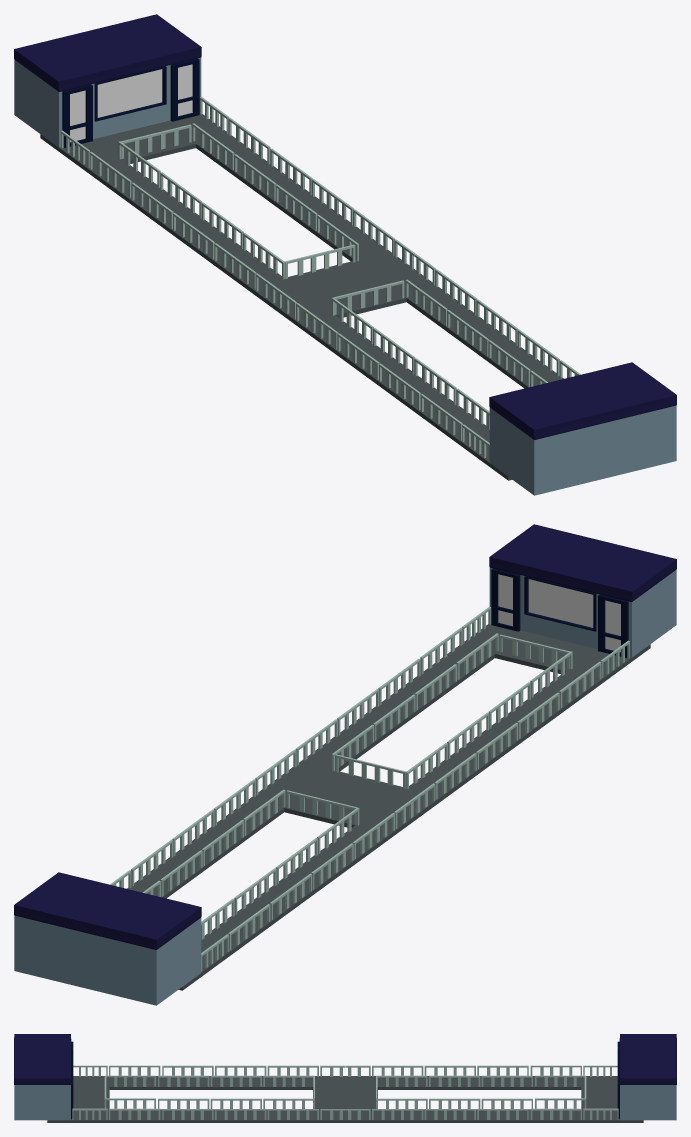
The model's file is stage.fbx.
The picture shows the model from 3 angles, top to bottom: view 1: azimuth 30°, elevation 25°; view 2: azimuth 150°, elevation 25°; view 3: azimuth 270°, elevation 25°; orthographic projection. The views are drawn at different scales.
Visible parts, largest first — view 1: Cube.002; view 2: Cube.002; view 3: Cube.002.
Part boxes in pixels (x1,y1,x2,y2): Cube.002: (14, 14, 676, 495); Cube.002: (14, 524, 676, 1005); Cube.002: (14, 1034, 676, 1122).
Bounding box in the file's own units: 1749 × 821 × 11033.
